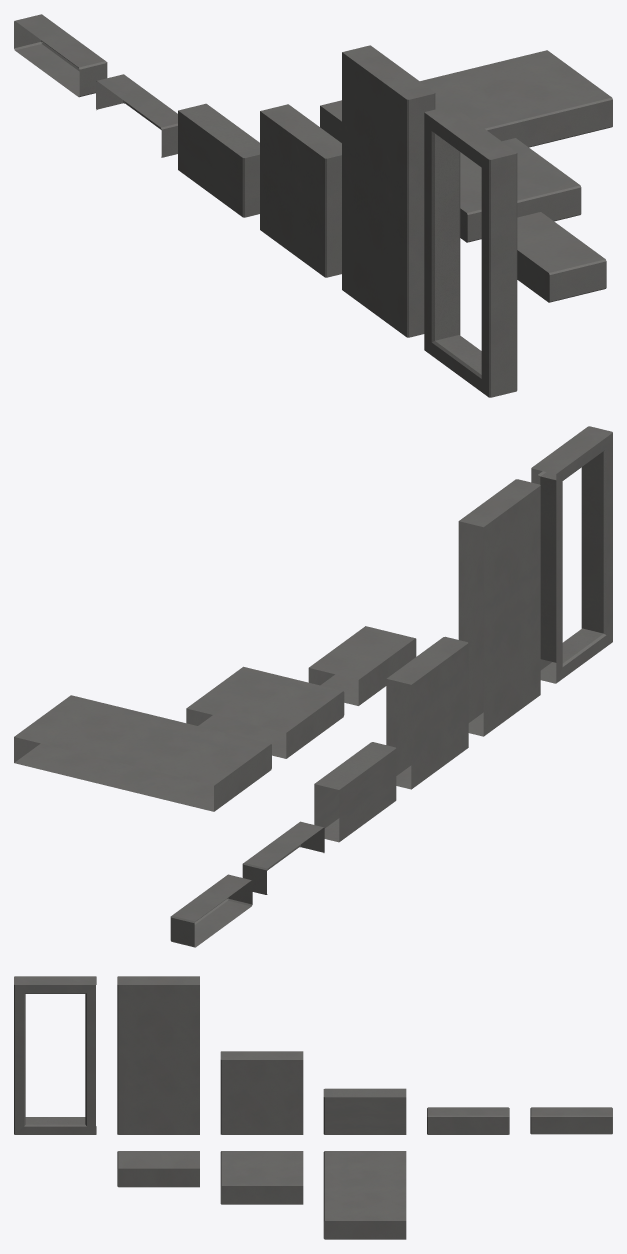
Rendered from Concrete.fbx.
The picture shows the model from 3 angles, top to bottom: view 1: azimuth 30°, elevation 25°; view 2: azimuth 150°, elevation 25°; view 3: azimuth 270°, elevation 25°; orthographic projection. The views are drawn at different scales.
Visible parts, largest first — view 1: SM_ConcreteWall_Large, SM_ConcreteWindow, SM_ConcreteFloor_Large, SM_ConcreteWall_Medium, SM_ConcreteWall_Small, SM_ConcreteFloor_Small, SM_ConcreteFloor_Medium, SM_Concrete_End, SM_Concrete_Corner; view 2: SM_ConcreteFloor_Large, SM_ConcreteWall_Large, SM_ConcreteWindow, SM_ConcreteWall_Medium, SM_ConcreteFloor_Medium, SM_ConcreteWall_Small, SM_ConcreteFloor_Small, SM_Concrete_End, SM_Concrete_Corner; view 3: SM_ConcreteWall_Large, SM_ConcreteFloor_Large, SM_ConcreteWall_Medium, SM_ConcreteWindow, SM_ConcreteFloor_Medium, SM_ConcreteWall_Small, SM_ConcreteFloor_Small, SM_Concrete_Corner, SM_Concrete_End.
Part boxes in pixels (left/top/right/bottom): SM_ConcreteWall_Large: left=342, top=45, right=435, bottom=337; SM_ConcreteWindow: left=424, top=105, right=517, bottom=397; SM_ConcreteFloor_Large: left=320, top=50, right=612, bottom=147; SM_ConcreteWall_Medium: left=260, top=104, right=341, bottom=277; SM_ConcreteWall_Small: left=178, top=103, right=259, bottom=217; SM_ConcreteFloor_Small: left=517, top=212, right=606, bottom=302; SM_ConcreteFloor_Medium: left=460, top=138, right=581, bottom=242; SM_Concrete_End: left=14, top=14, right=107, bottom=97; SM_Concrete_Corner: left=96, top=74, right=177, bottom=157; SM_ConcreteFloor_Large: left=14, top=695, right=271, bottom=811; SM_ConcreteWall_Large: left=458, top=479, right=540, bottom=736; SM_ConcreteWindow: left=531, top=426, right=612, bottom=683; SM_ConcreteWall_Medium: left=386, top=636, right=468, bottom=789; SM_ConcreteFloor_Medium: left=186, top=666, right=344, bottom=758; SM_ConcreteWall_Small: left=314, top=742, right=396, bottom=842; SM_ConcreteFloor_Small: left=308, top=626, right=416, bottom=705; SM_Concrete_End: left=170, top=874, right=252, bottom=947; SM_Concrete_Corner: left=242, top=821, right=324, bottom=894; SM_ConcreteWall_Large: left=117, top=976, right=199, bottom=1134; SM_ConcreteFloor_Large: left=323, top=1151, right=406, bottom=1239; SM_ConcreteWall_Medium: left=220, top=1051, right=303, bottom=1134; SM_ConcreteWindow: left=14, top=976, right=96, bottom=1134; SM_ConcreteFloor_Medium: left=220, top=1151, right=303, bottom=1204; SM_ConcreteWall_Small: left=323, top=1088, right=406, bottom=1134; SM_ConcreteFloor_Small: left=117, top=1151, right=199, bottom=1187; SM_Concrete_Corner: left=427, top=1107, right=509, bottom=1134; SM_Concrete_End: left=530, top=1107, right=612, bottom=1134.
Bounding box in the file's own units: 650 × 400 × 1450.
